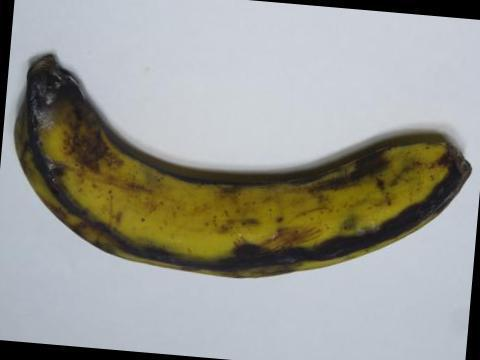overripe: (10, 49, 471, 296)
rotten: (14, 41, 115, 155)
